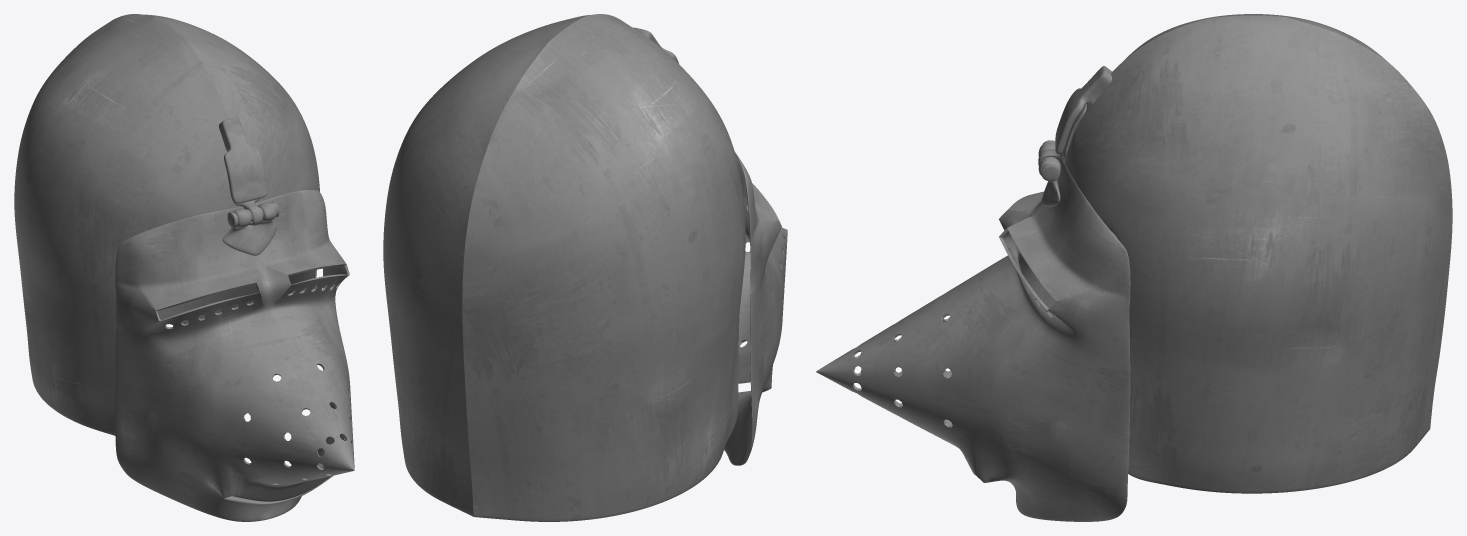
3 renders of one model, left to right at view 1: azimuth 30°, elevation 25°; view 2: azimuth 150°, elevation 25°; view 3: azimuth 270°, elevation 25°, orthographic. The views are drawn at different scales.
Visible parts, largest first — view 1: Helmet_0, Mask_3, Plane.001_4, Joint.002_2; view 2: Helmet_0, Mask_3; view 3: Helmet_0, Mask_3, Plane.001_4, Joint.002_2.
Part boxes in pixels (left/top/right/bottom): Helmet_0: left=14, top=14, right=319, bottom=435; Mask_3: left=115, top=190, right=354, bottom=521; Plane.001_4: left=219, top=117, right=267, bottom=203; Joint.002_2: left=222, top=202, right=276, bottom=255; Helmet_0: left=383, top=14, right=745, bottom=521; Mask_3: left=724, top=151, right=787, bottom=465; Helmet_0: left=1064, top=14, right=1452, bottom=493; Mask_3: left=816, top=156, right=1130, bottom=521; Plane.001_4: left=1055, top=66, right=1112, bottom=154; Joint.002_2: left=1038, top=142, right=1060, bottom=206.
Size of what is drawn, in the model's own units: 1.3 by 2.02 by 2.39.
1 material, 1 textured.
